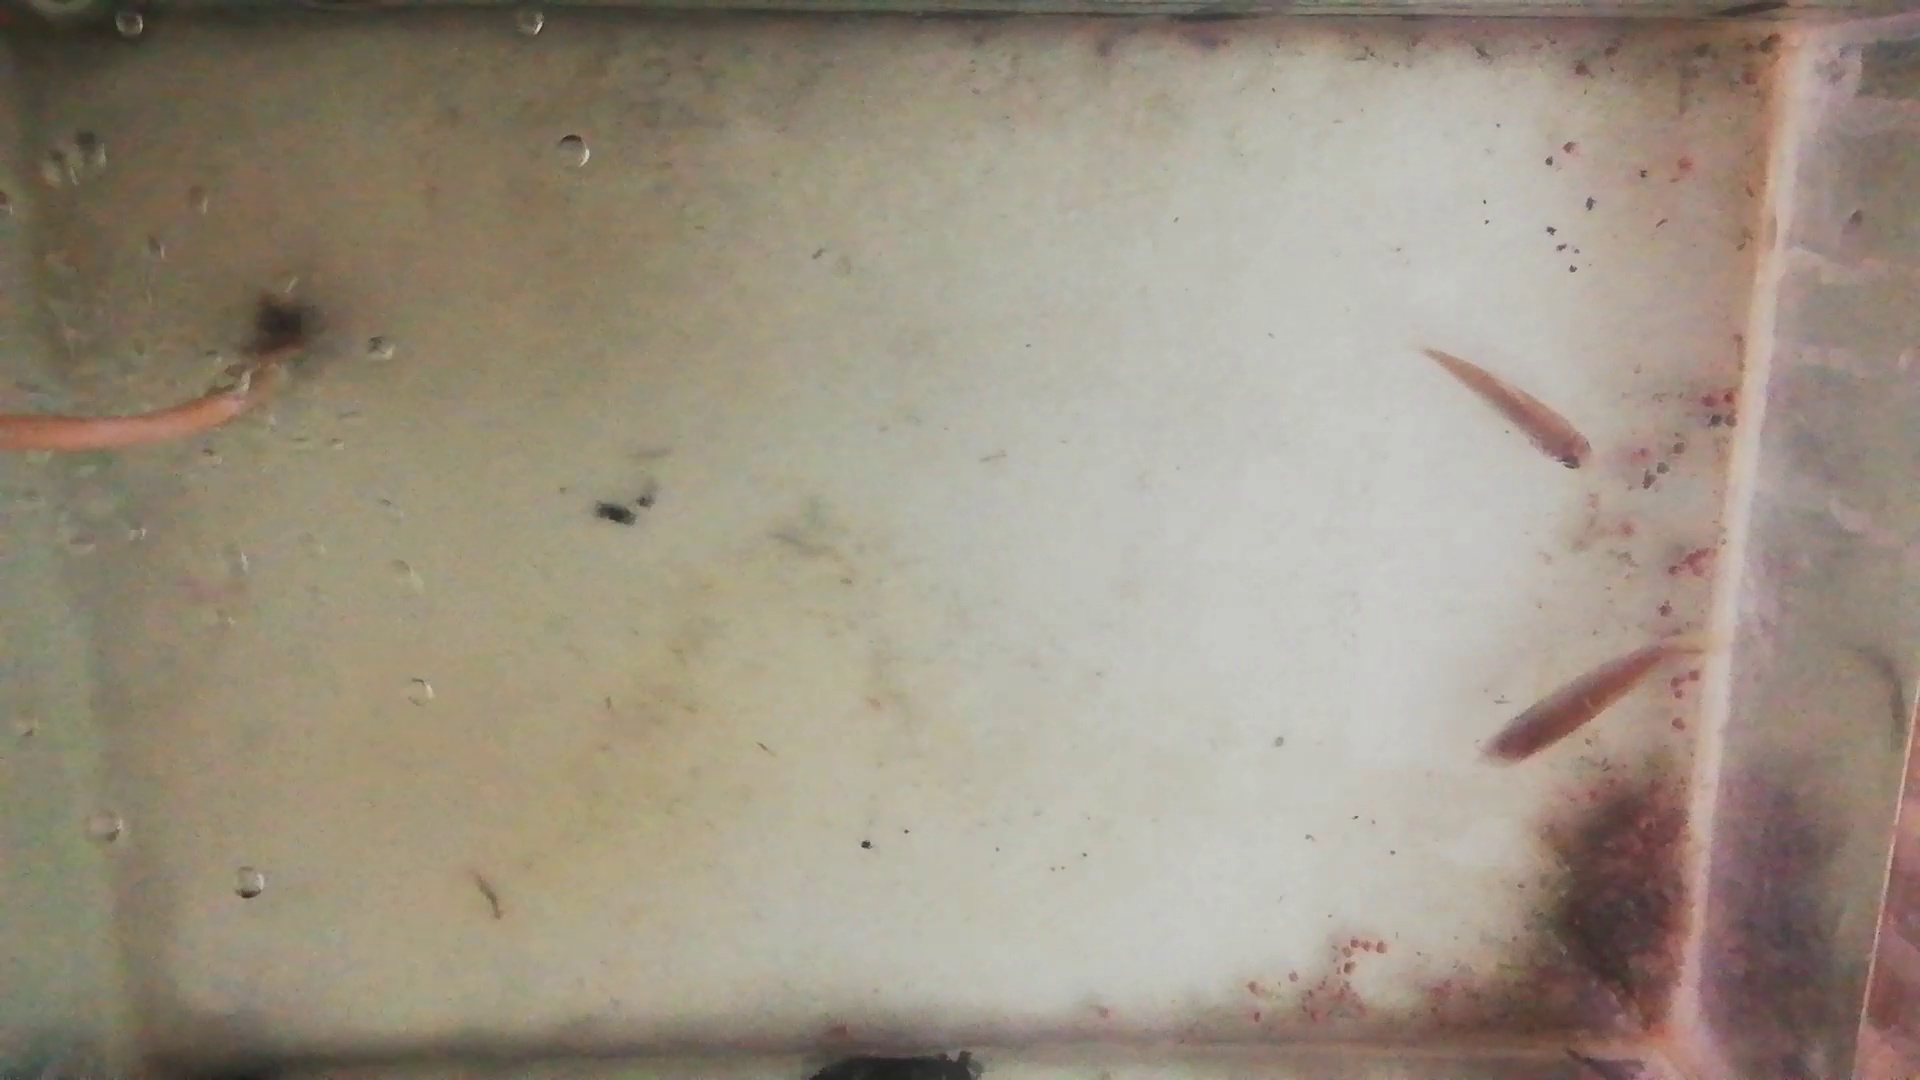fish: (1419, 347, 1600, 473), (1480, 640, 1662, 764)
